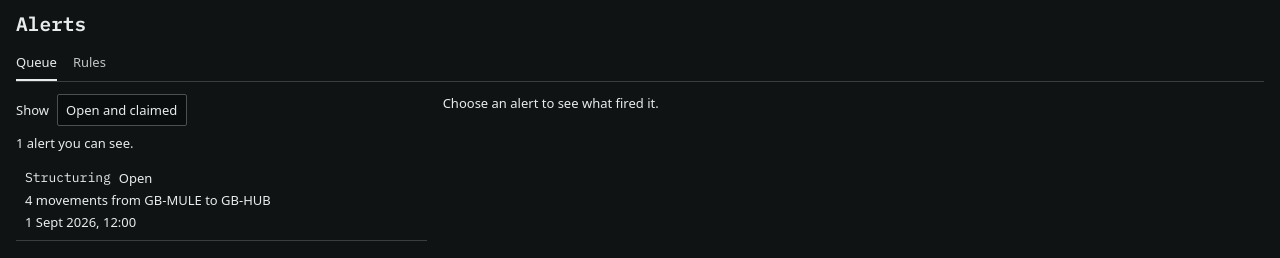
the Alerts place › names the parties of an alert that cites no transactions, never an empty table
Click the button with aria-label "Open alert": (221, 200) [16,160,427,240]
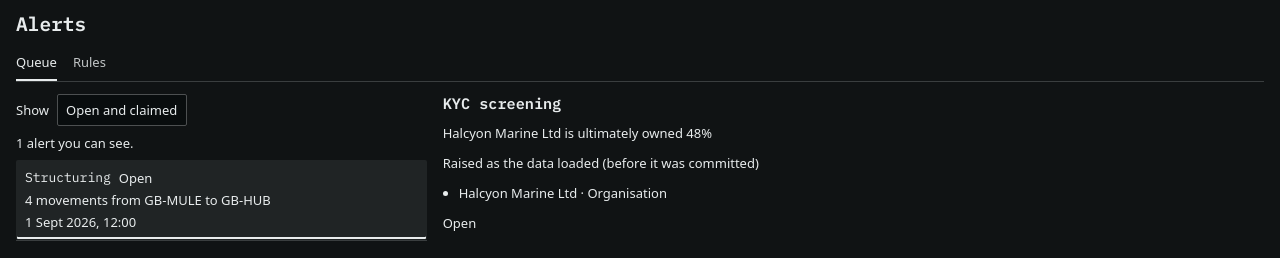
Expected: the list named "What this alert concerns" reads "Halcyon Marine Ltd · Organisation", [459,184,667,202]
Expected: the text "Raised as the data loaded (before it was committed)" is shown, [443,154,759,172]
